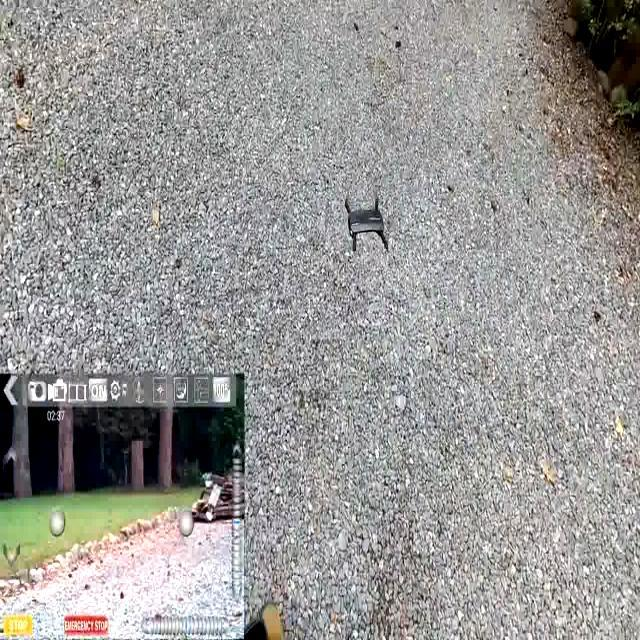drone: (338, 182, 402, 255)
